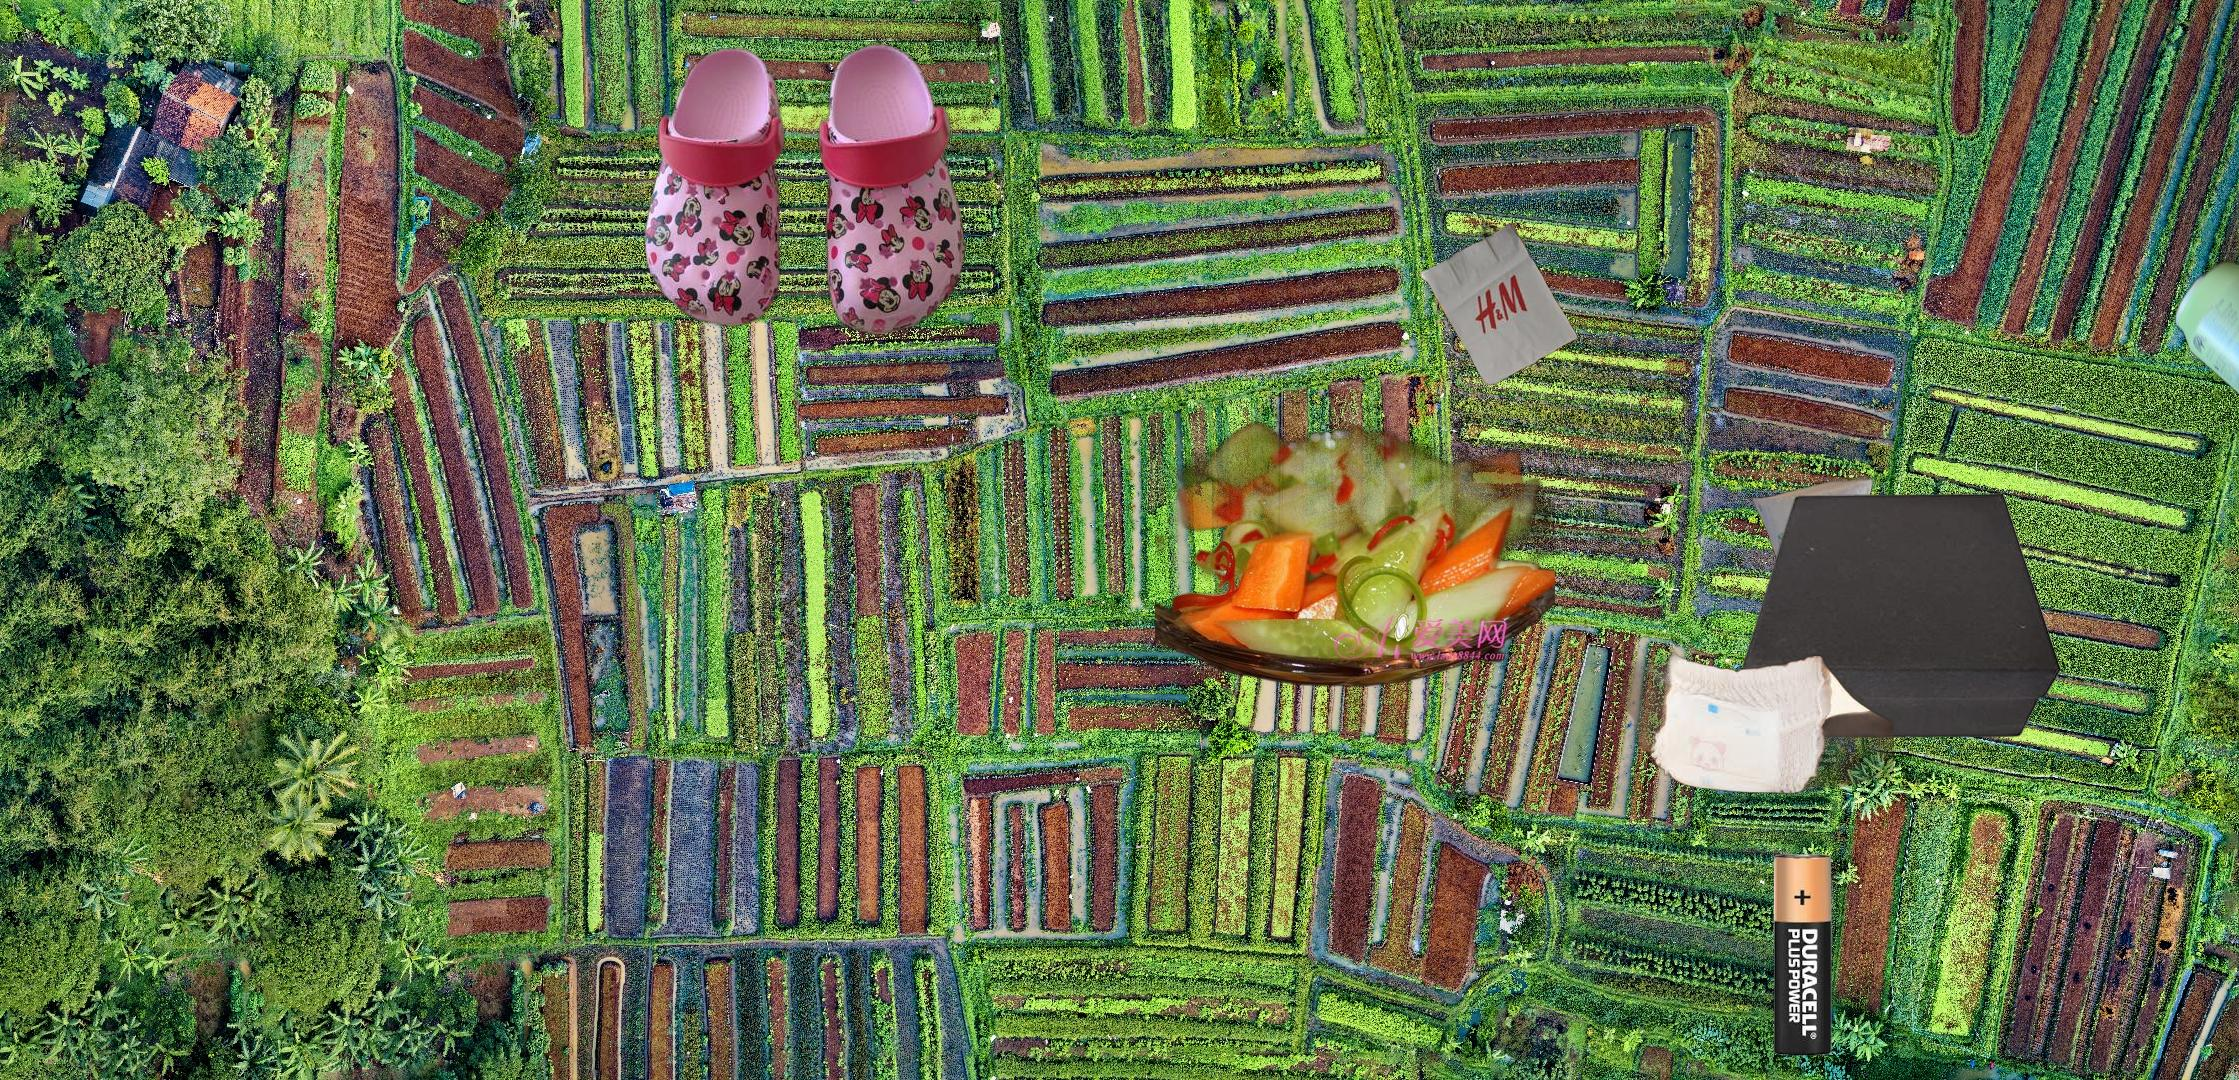battery: (1771, 851, 1835, 1056)
biological: (1155, 393, 1555, 690)
metal-cans: (2170, 254, 2239, 454)
paper-bag: (1417, 203, 1581, 387)
plastic-bag: (1724, 477, 1916, 777)
shoes: (643, 39, 970, 340)
trash: (1614, 624, 1893, 801)
trashbox-cardboard: (1742, 493, 2062, 740)
